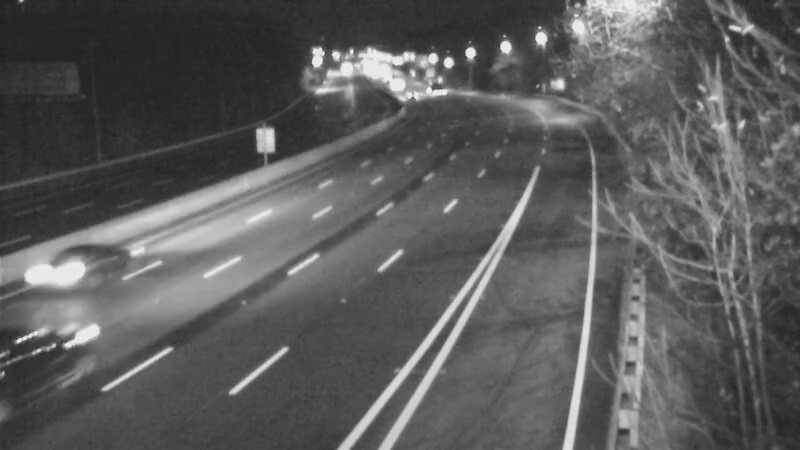vehicle: (1, 311, 98, 421), (20, 237, 100, 317), (371, 55, 421, 105), (407, 62, 457, 112), (378, 67, 428, 117)
